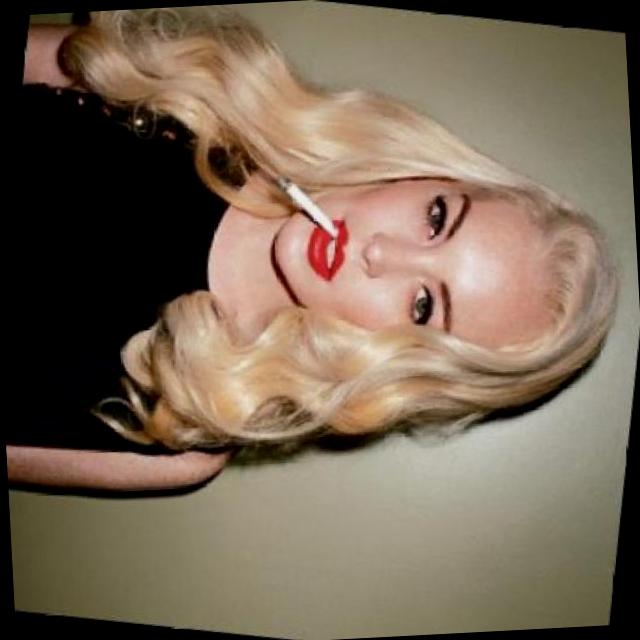smoke: (269, 168, 350, 241)
